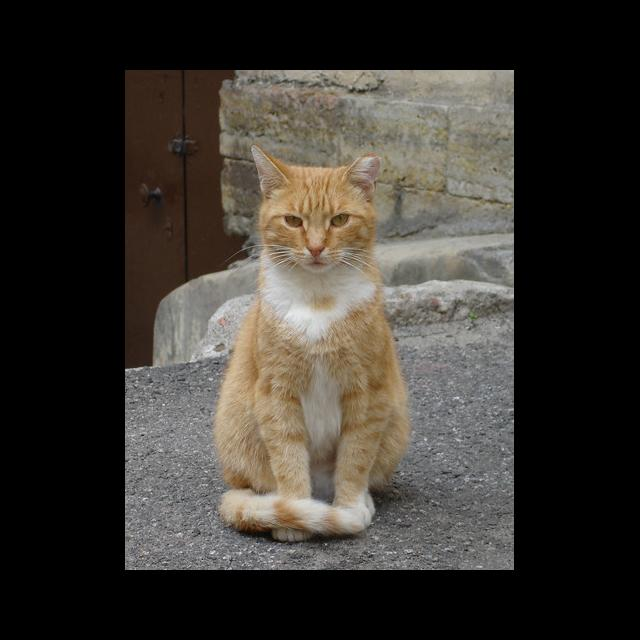animals: (213, 145, 409, 542)
